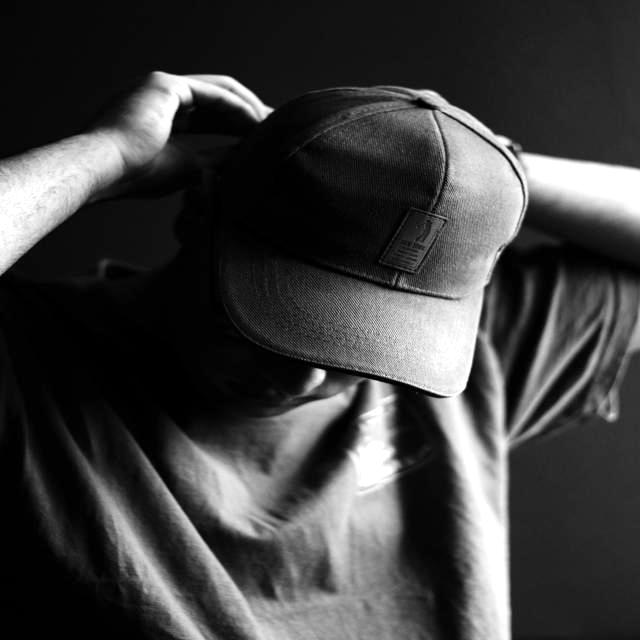no_hard_hat: (217, 87, 527, 397)
person: (0, 73, 640, 640)
